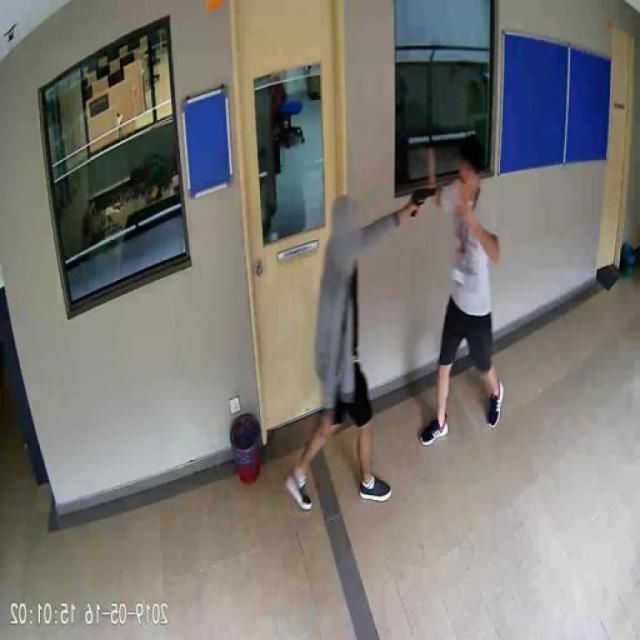pistol: (411, 184, 439, 216)
